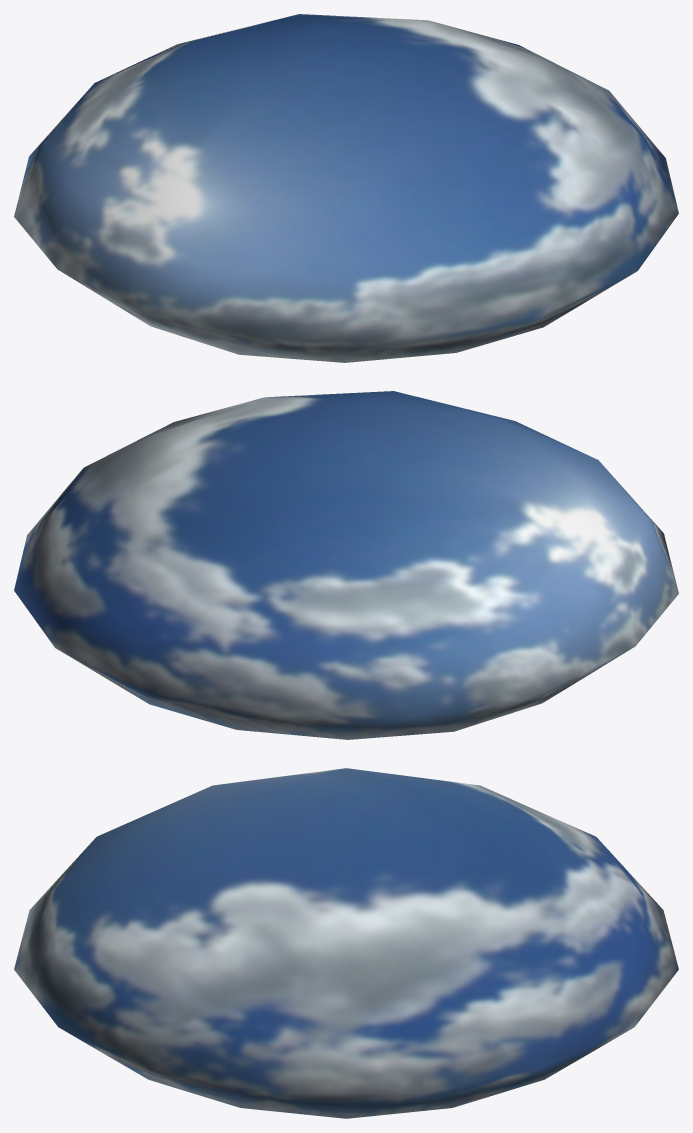
The model's file is environment.obj.
3 renders of one model, top to bottom at view 1: azimuth 30°, elevation 25°; view 2: azimuth 150°, elevation 25°; view 3: azimuth 270°, elevation 25°, orthographic.
Parts seen in each view (by area): view 1: Cylinder01; view 2: Cylinder01; view 3: Cylinder01.
Part boxes in pixels (x1=…): Cylinder01: x1=14, y1=14, x2=678, y2=362; Cylinder01: x1=14, y1=391, x2=678, y2=739; Cylinder01: x1=14, y1=768, x2=678, y2=1118.
Size of the model in its own units: 113381 by 35108 by 114304.
3 materials, 3 textured.
